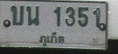txt20: (24, 4, 40, 28)
txt21: (9, 4, 25, 27)
